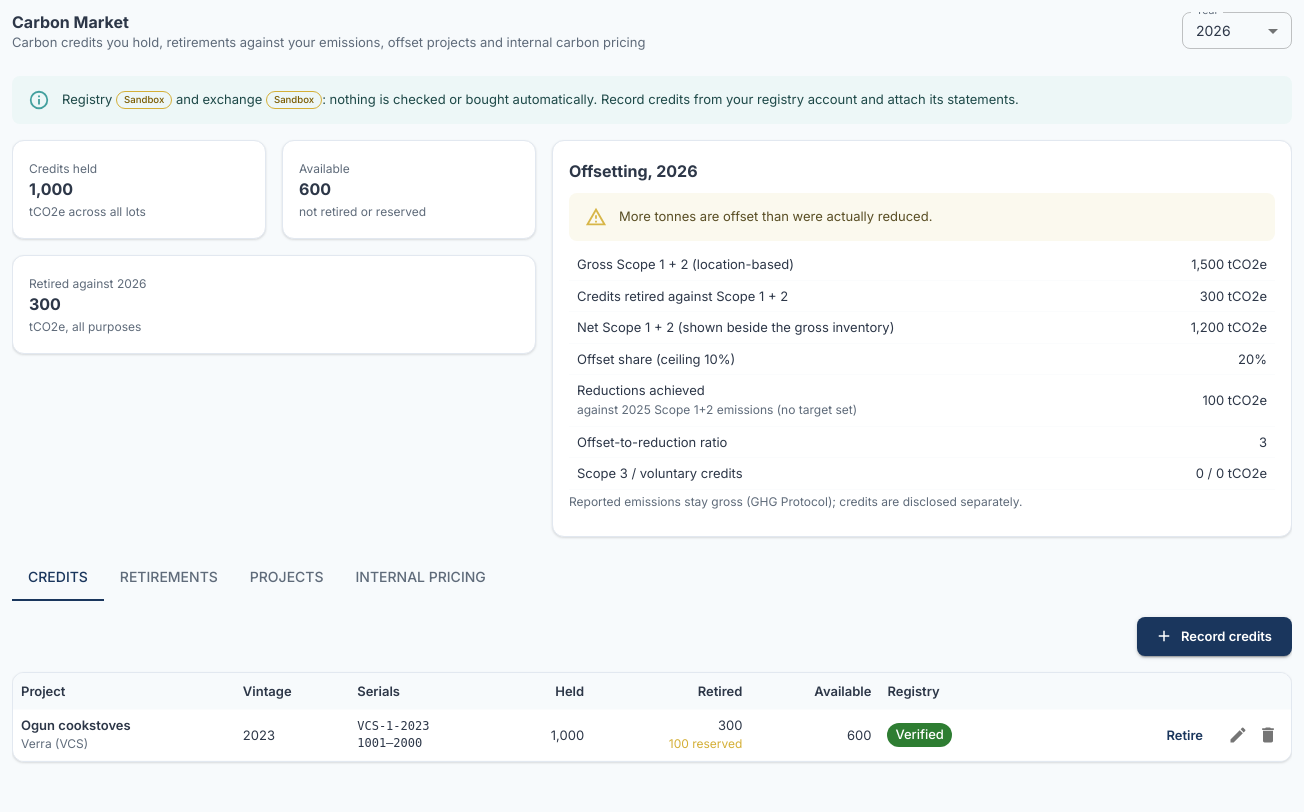
Test case: Carbon market page › disables approval for whoever requested the retirement
Click the tab "Retirements": (169, 577) left=104, top=553, right=234, bottom=601
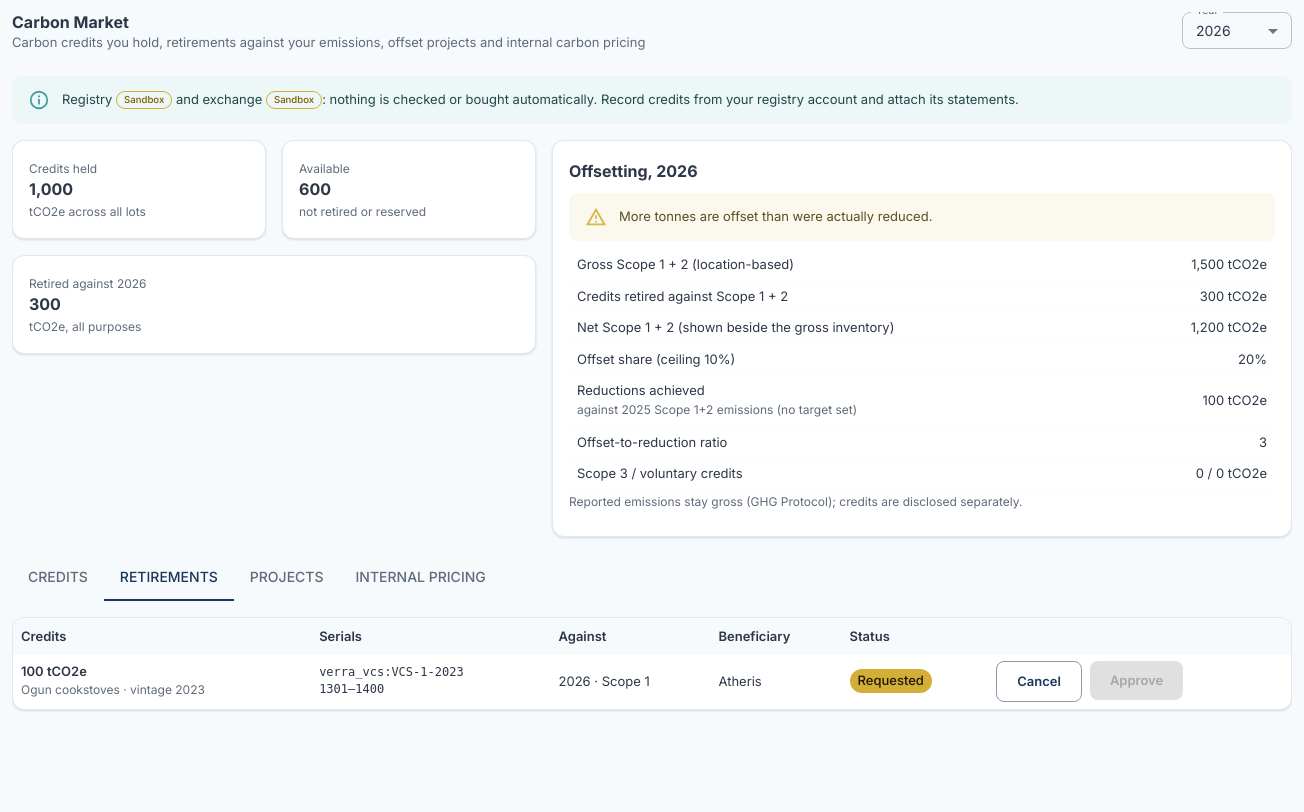
Expected: the button "Approve" is disabled, left=1090, top=661, right=1183, bottom=700
Expected: the button "Cancel" is enabled, left=996, top=661, right=1082, bottom=702
